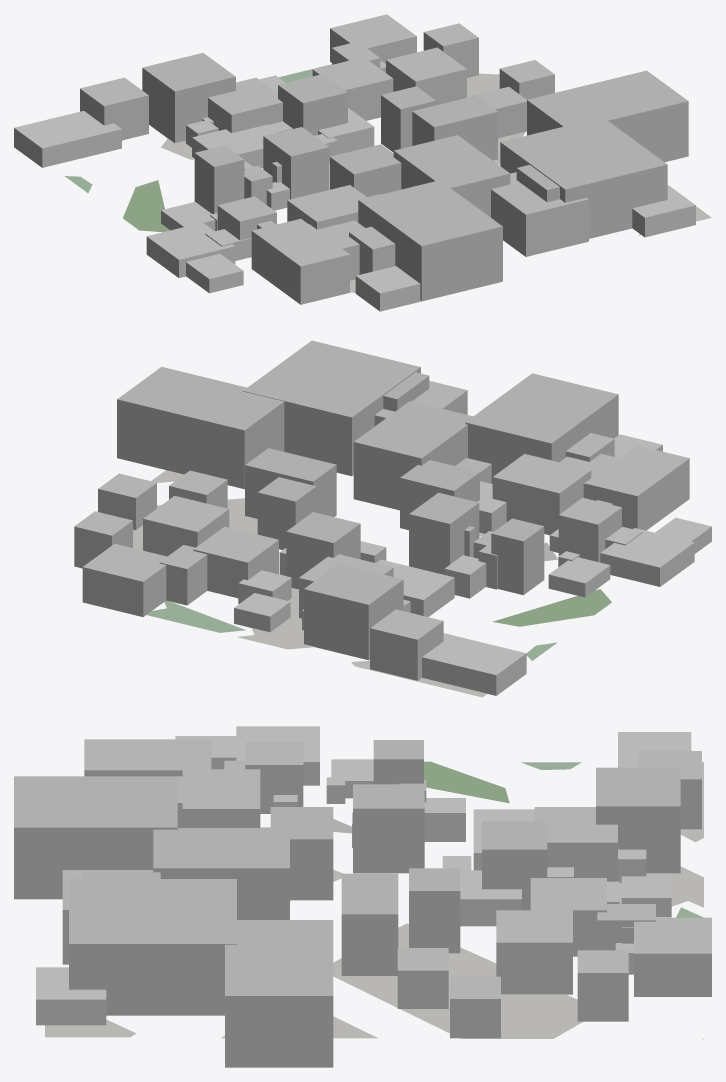
The model's file is 114_110_mid.glb.
The picture shows the model from 3 angles, top to bottom: view 1: azimuth 30°, elevation 25°; view 2: azimuth 150°, elevation 25°; view 3: azimuth 270°, elevation 25°; orthographic projection. The views are drawn at different scales.
Bounding box in the file's own units: 574 × 62.46 × 530.
